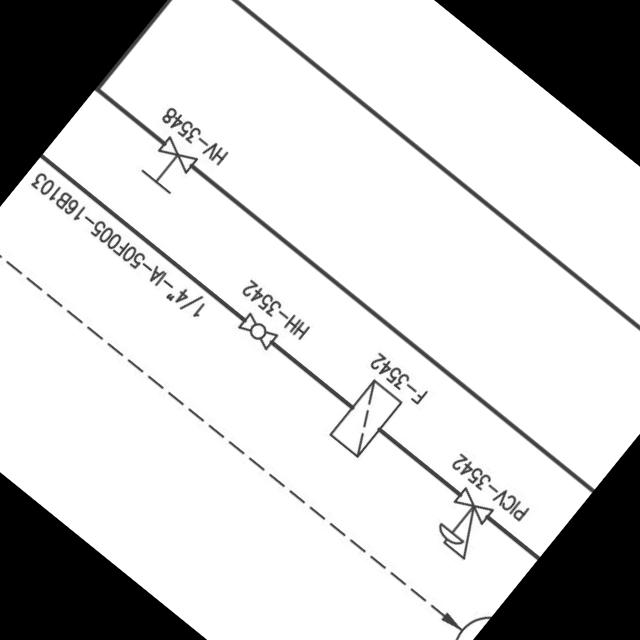BV2: (228, 306, 286, 361)
F2: (318, 372, 411, 468)
HVWT: (130, 131, 204, 205)
PCV: (418, 482, 506, 572)
